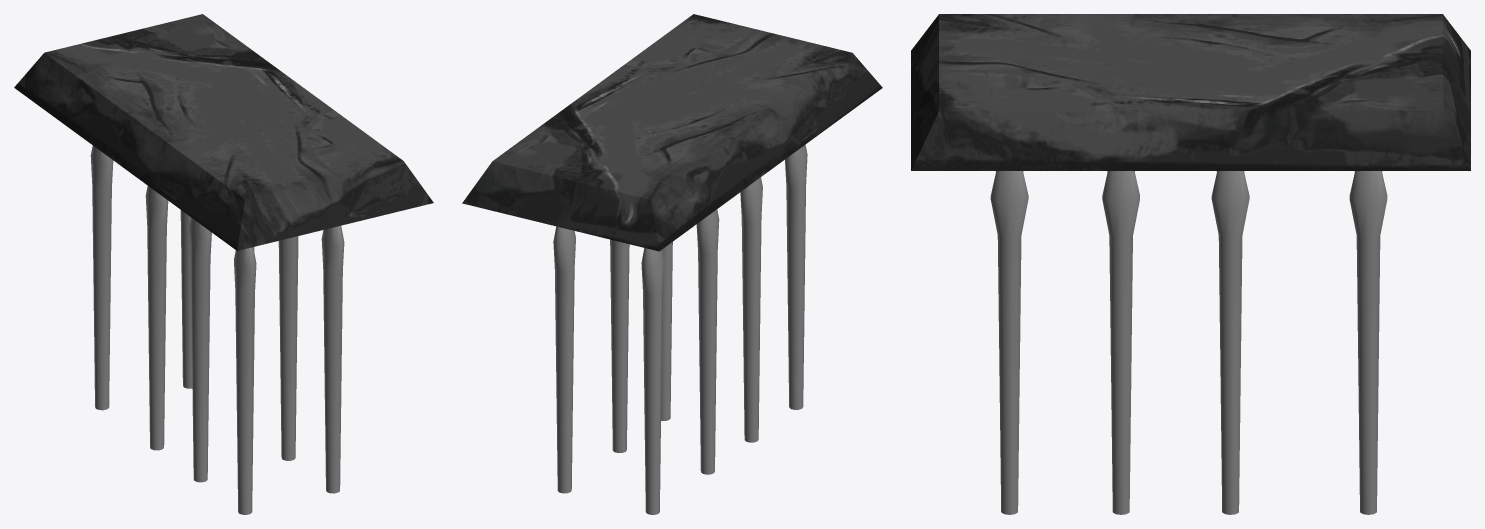
Rendered from GroundSPikesSmall.FBX.
3 renders of one model, left to right at view 1: azimuth 30°, elevation 25°; view 2: azimuth 150°, elevation 25°; view 3: azimuth 270°, elevation 25°, orthographic. The views are drawn at different scales.
Parts seen in each view (by area): view 1: pressure plate small, Cylinder032, Cylinder030, Cylinder022, Cylinder021, Cylinder020, Cylinder023, Cylinder025; view 2: pressure plate small, Cylinder022, Cylinder025, Cylinder021, Cylinder030, Cylinder020, Cylinder024, Cylinder023; view 3: pressure plate small, Cylinder024, Cylinder025, Cylinder032, Cylinder023.
Boxes of the visible parts, x1,y1,x2,y2 form: pressure plate small: (14, 14, 433, 250); Cylinder032: (321, 225, 344, 493); Cylinder030: (234, 247, 256, 514); Cylinder022: (90, 145, 113, 410); Cylinder021: (145, 186, 168, 450); Cylinder020: (189, 218, 211, 482); Cylinder023: (278, 236, 298, 460); Cylinder025: (180, 210, 192, 388); pressure plate small: (462, 14, 882, 251); Cylinder022: (641, 248, 664, 514); Cylinder025: (553, 226, 575, 493); Cylinder021: (696, 209, 719, 474); Cylinder030: (785, 144, 807, 409); Cylinder020: (740, 177, 762, 442); Cylinder024: (610, 239, 629, 452); Cylinder023: (661, 242, 672, 421); pressure plate small: (911, 14, 1470, 170); Cylinder024: (1211, 171, 1249, 514); Cylinder025: (1349, 171, 1387, 514); Cylinder032: (990, 171, 1028, 514); Cylinder023: (1102, 171, 1139, 514).
Bounding box in the file's own units: 0.1931 × 0.3186 × 0.3792.
2 materials, 1 textured.
